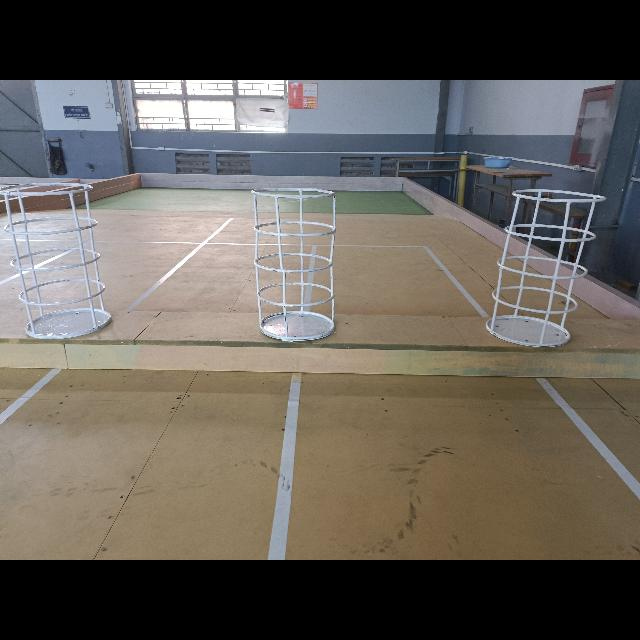S: (482, 188, 608, 350), (0, 182, 113, 341), (249, 186, 338, 343)
